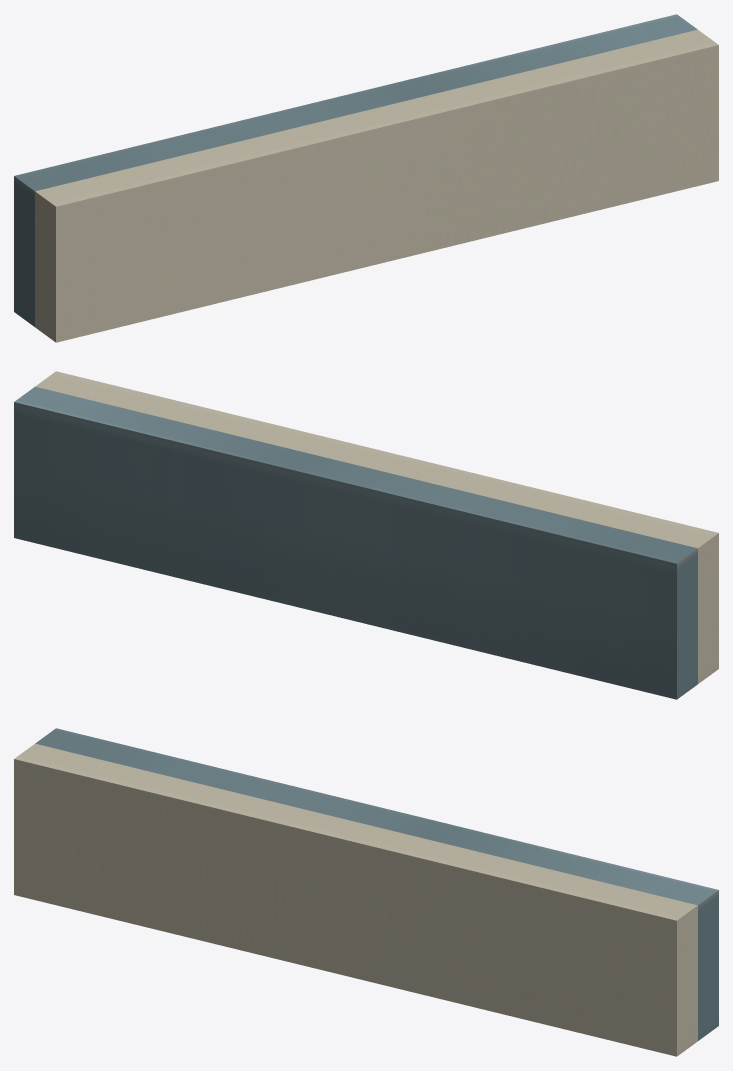
File: set_wall_01_04_base.fbx
3 views of the same model, one above another, from view 1: azimuth 30°, elevation 25°; view 2: azimuth 150°, elevation 25°; view 3: azimuth 330°, elevation 25° (orthographic).
Visible parts, largest first — view 1: set_wall_01_04_base; view 2: set_wall_01_04_base; view 3: set_wall_01_04_base.
Part boxes in pixels (x1,y1,x2,y2): set_wall_01_04_base: (14,14,718,342); set_wall_01_04_base: (14,371,718,699); set_wall_01_04_base: (14,728,718,1056).
Size of the model in its own units: 100 by 19.6 by 11.
